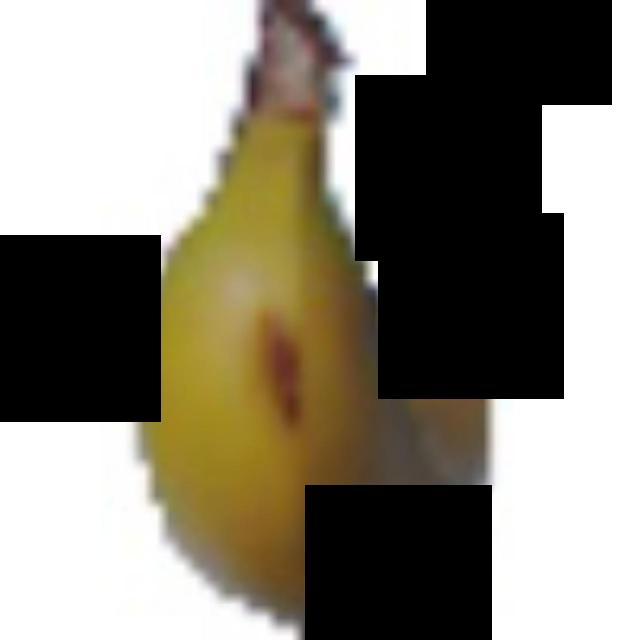banana: (128, 0, 500, 634)
